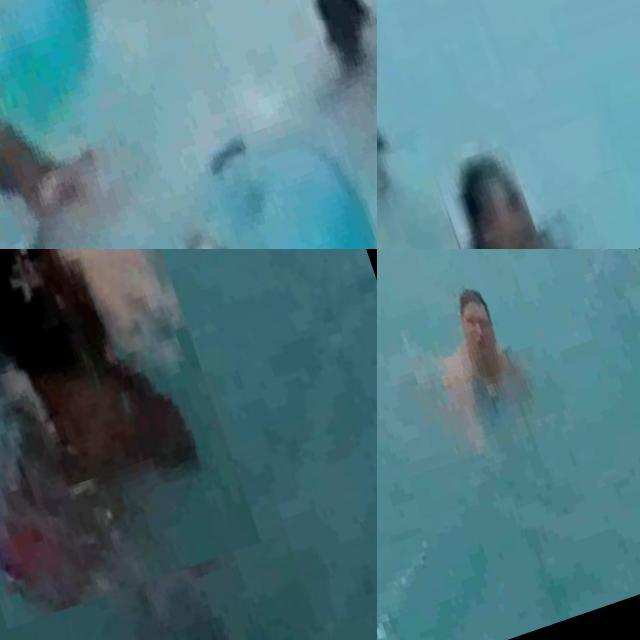drowning: (0, 249, 263, 629), (377, 249, 560, 478), (218, 0, 377, 134), (377, 69, 431, 210)
swimming: (0, 0, 85, 246), (429, 130, 553, 249)
